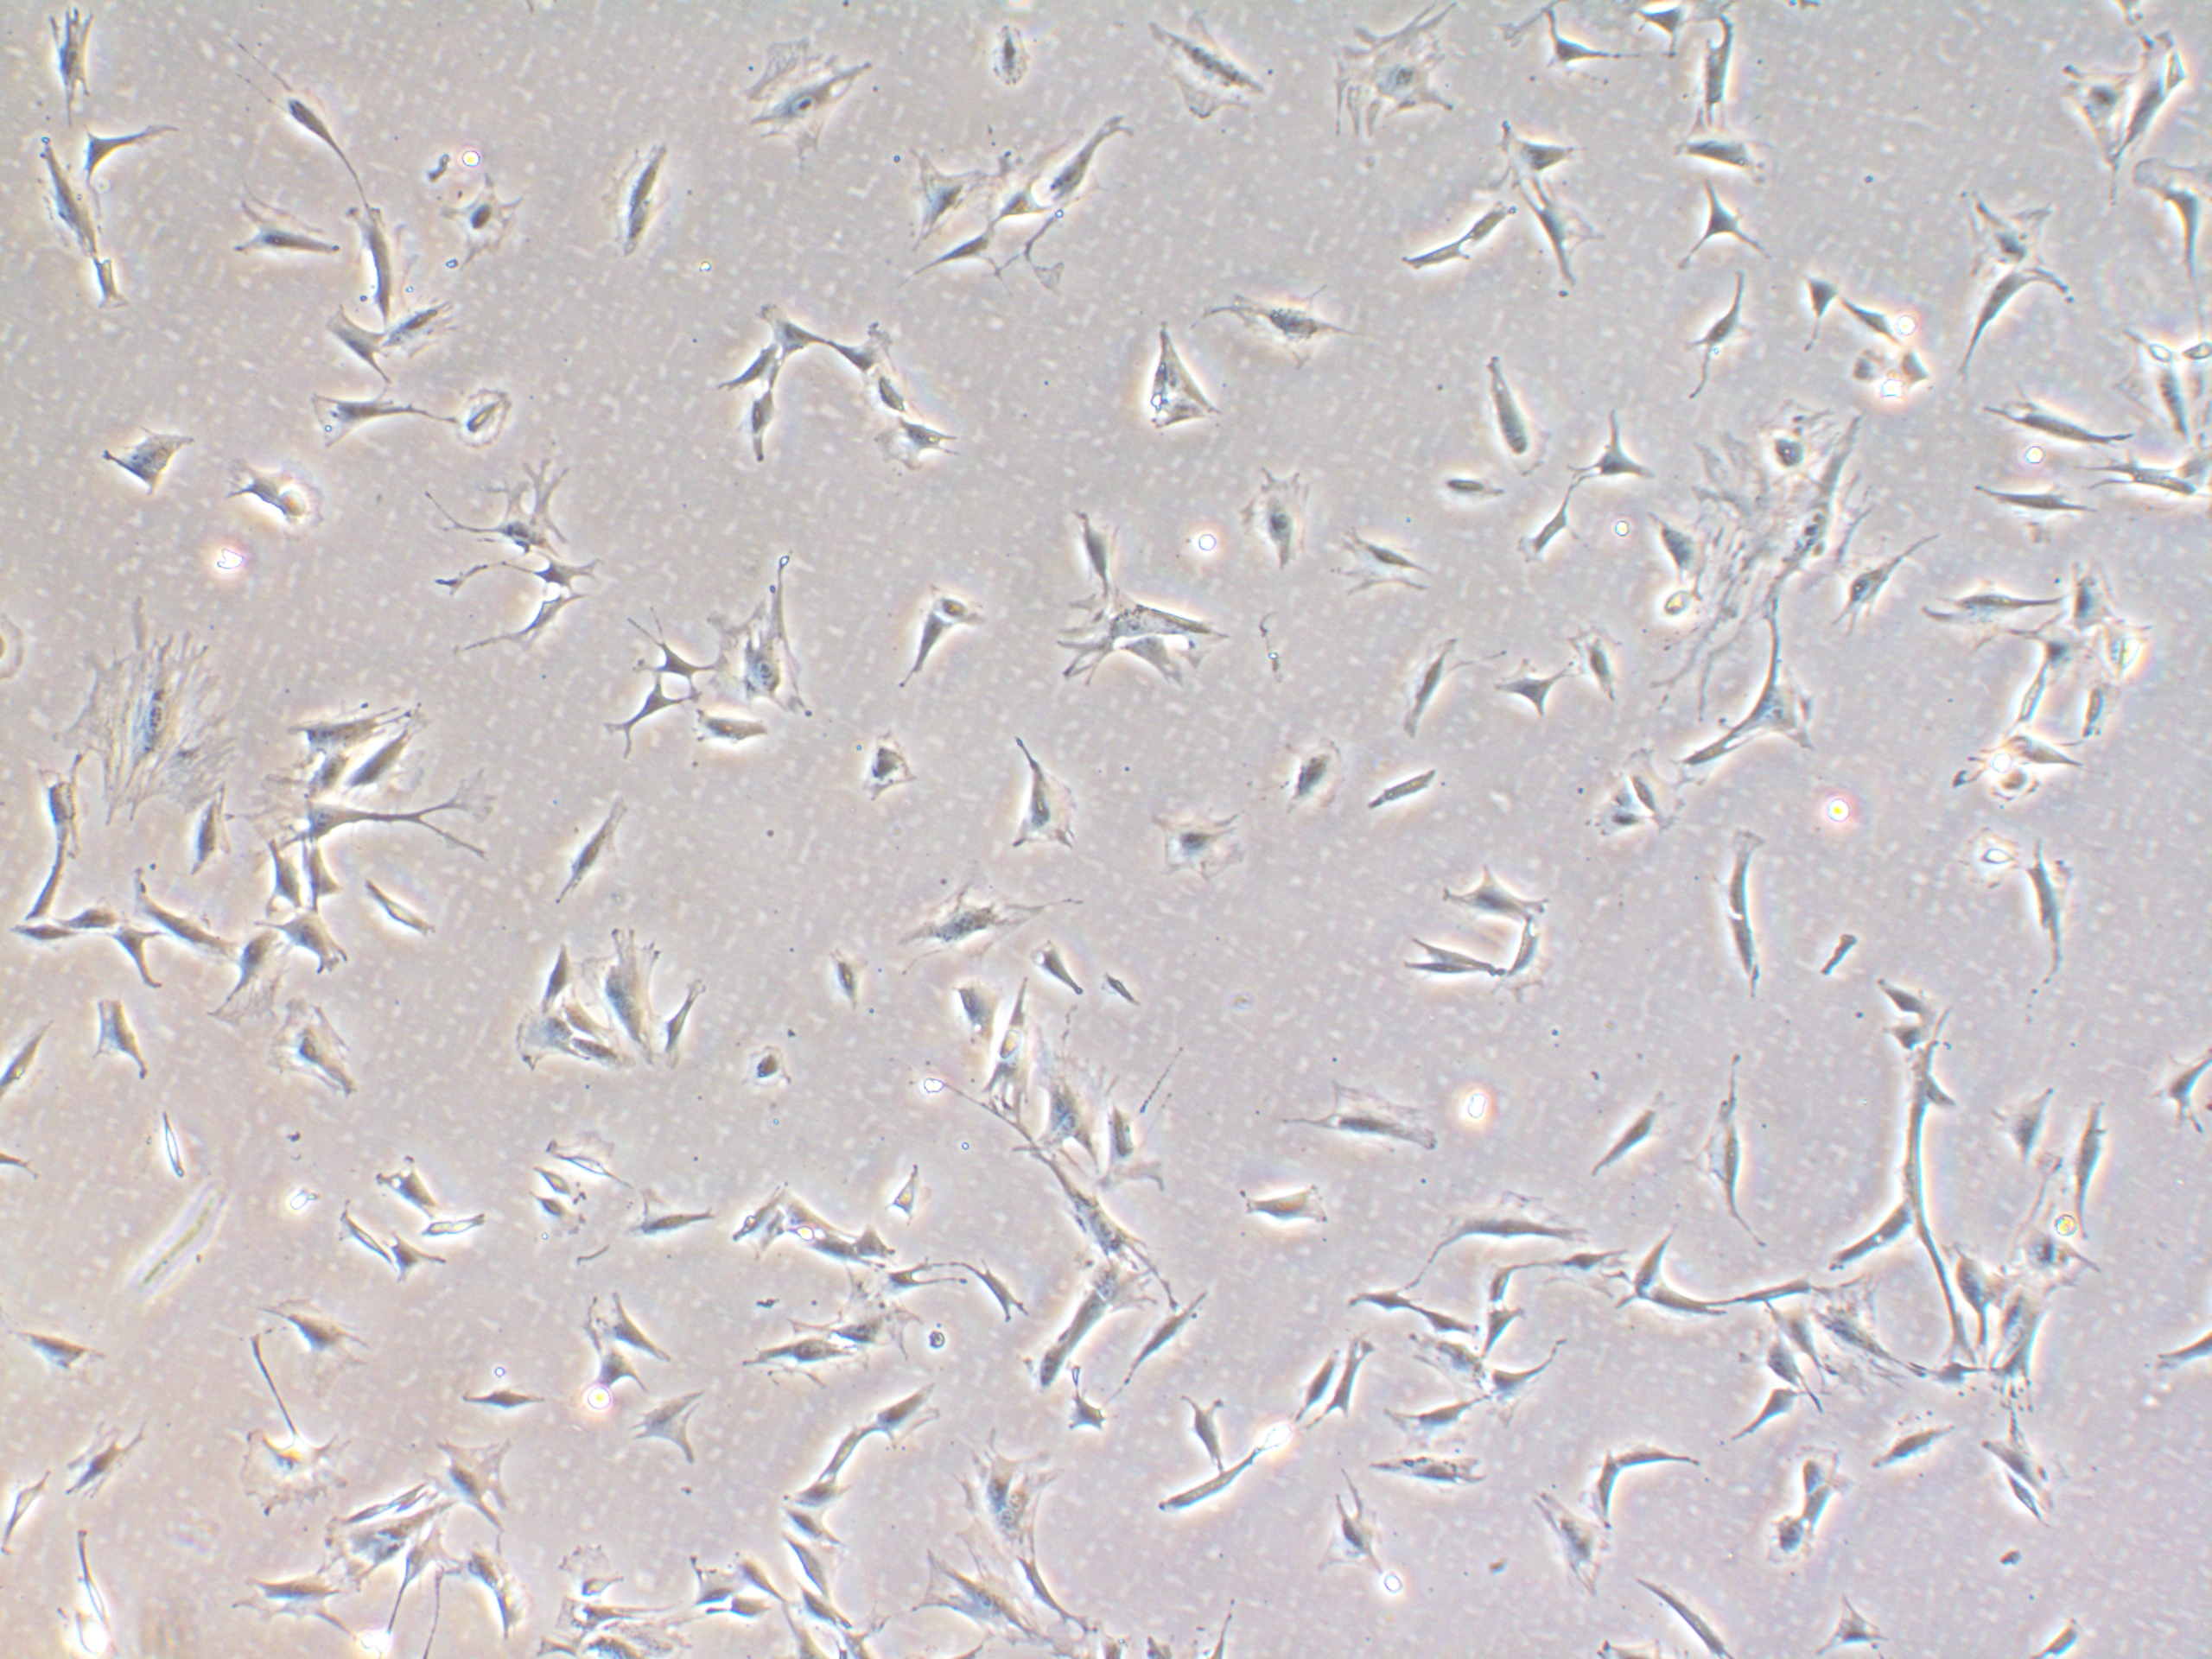small: (1952, 817, 2024, 908), (444, 376, 523, 455), (275, 476, 345, 559), (733, 1033, 808, 1107), (1752, 1509, 1808, 1586)
spread: (1688, 378, 1874, 673), (47, 605, 258, 838), (702, 538, 845, 737), (890, 1497, 1050, 1659), (895, 847, 1099, 971), (1318, 0, 1465, 153), (949, 1431, 1064, 1622), (732, 44, 880, 181), (2003, 1148, 2111, 1310), (214, 1417, 361, 1520), (1026, 1032, 1125, 1157), (1237, 462, 1348, 573), (268, 992, 374, 1108)
